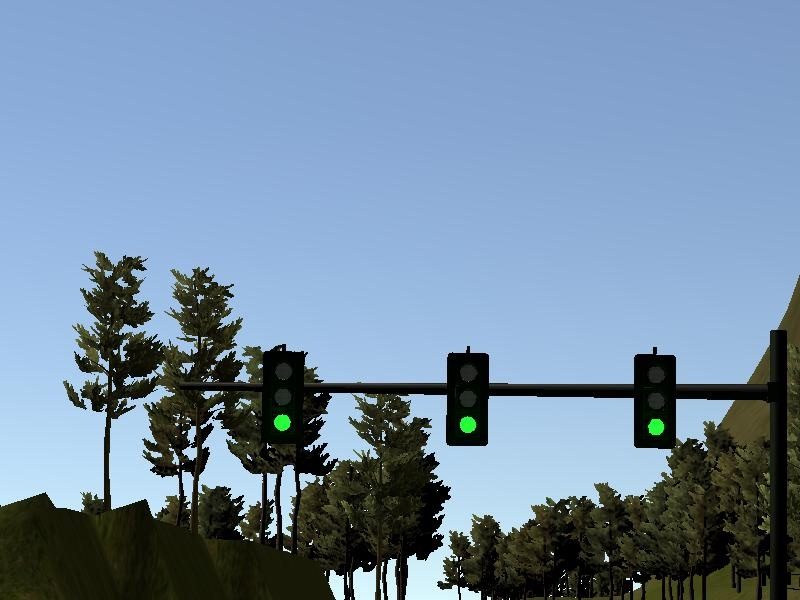GREEN: (448, 351, 488, 448), (636, 354, 677, 447), (265, 351, 304, 444)
